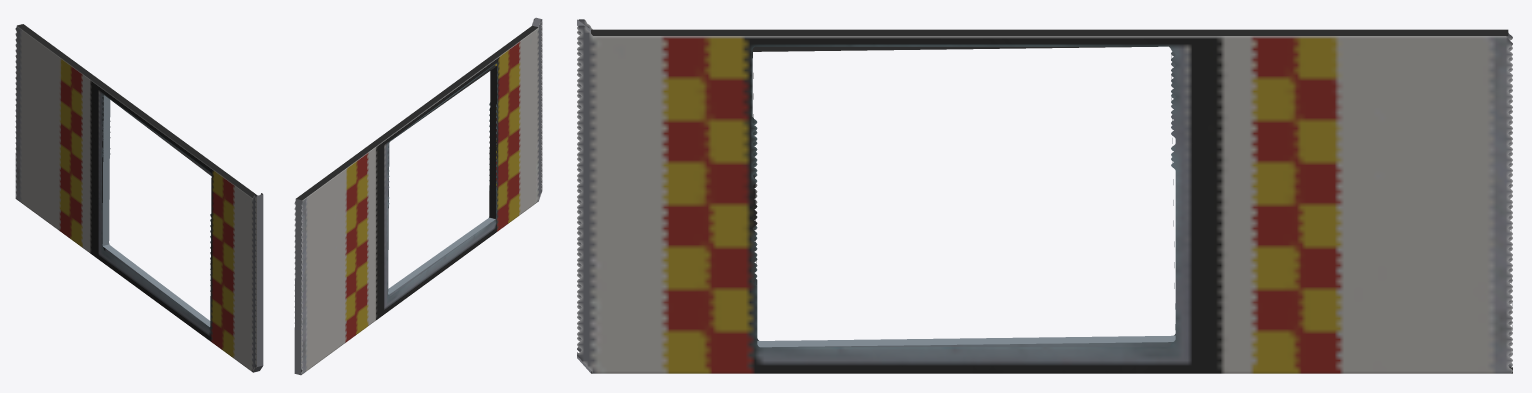
The model's file is pz_native_location_shop_gas2go_01_4_frame.obj.
The picture shows the model from 3 angles, left to right: view 1: azimuth 30°, elevation 25°; view 2: azimuth 150°, elevation 25°; view 3: azimuth 270°, elevation 25°; orthographic projection. The views are drawn at different scales.
Visible parts, largest first — view 1: pz_native_location_shop_gas2go_01_4_frame; view 2: pz_native_location_shop_gas2go_01_4_frame; view 3: pz_native_location_shop_gas2go_01_4_frame.
Part boxes in pixels (x1,y1,x2,y2): pz_native_location_shop_gas2go_01_4_frame: (15,24,263,372); pz_native_location_shop_gas2go_01_4_frame: (294,17,542,375); pz_native_location_shop_gas2go_01_4_frame: (577,19,1512,373).
Bounding box in the file's own units: 0.04 × 1.06 × 2.54.
1 material, 1 textured.
